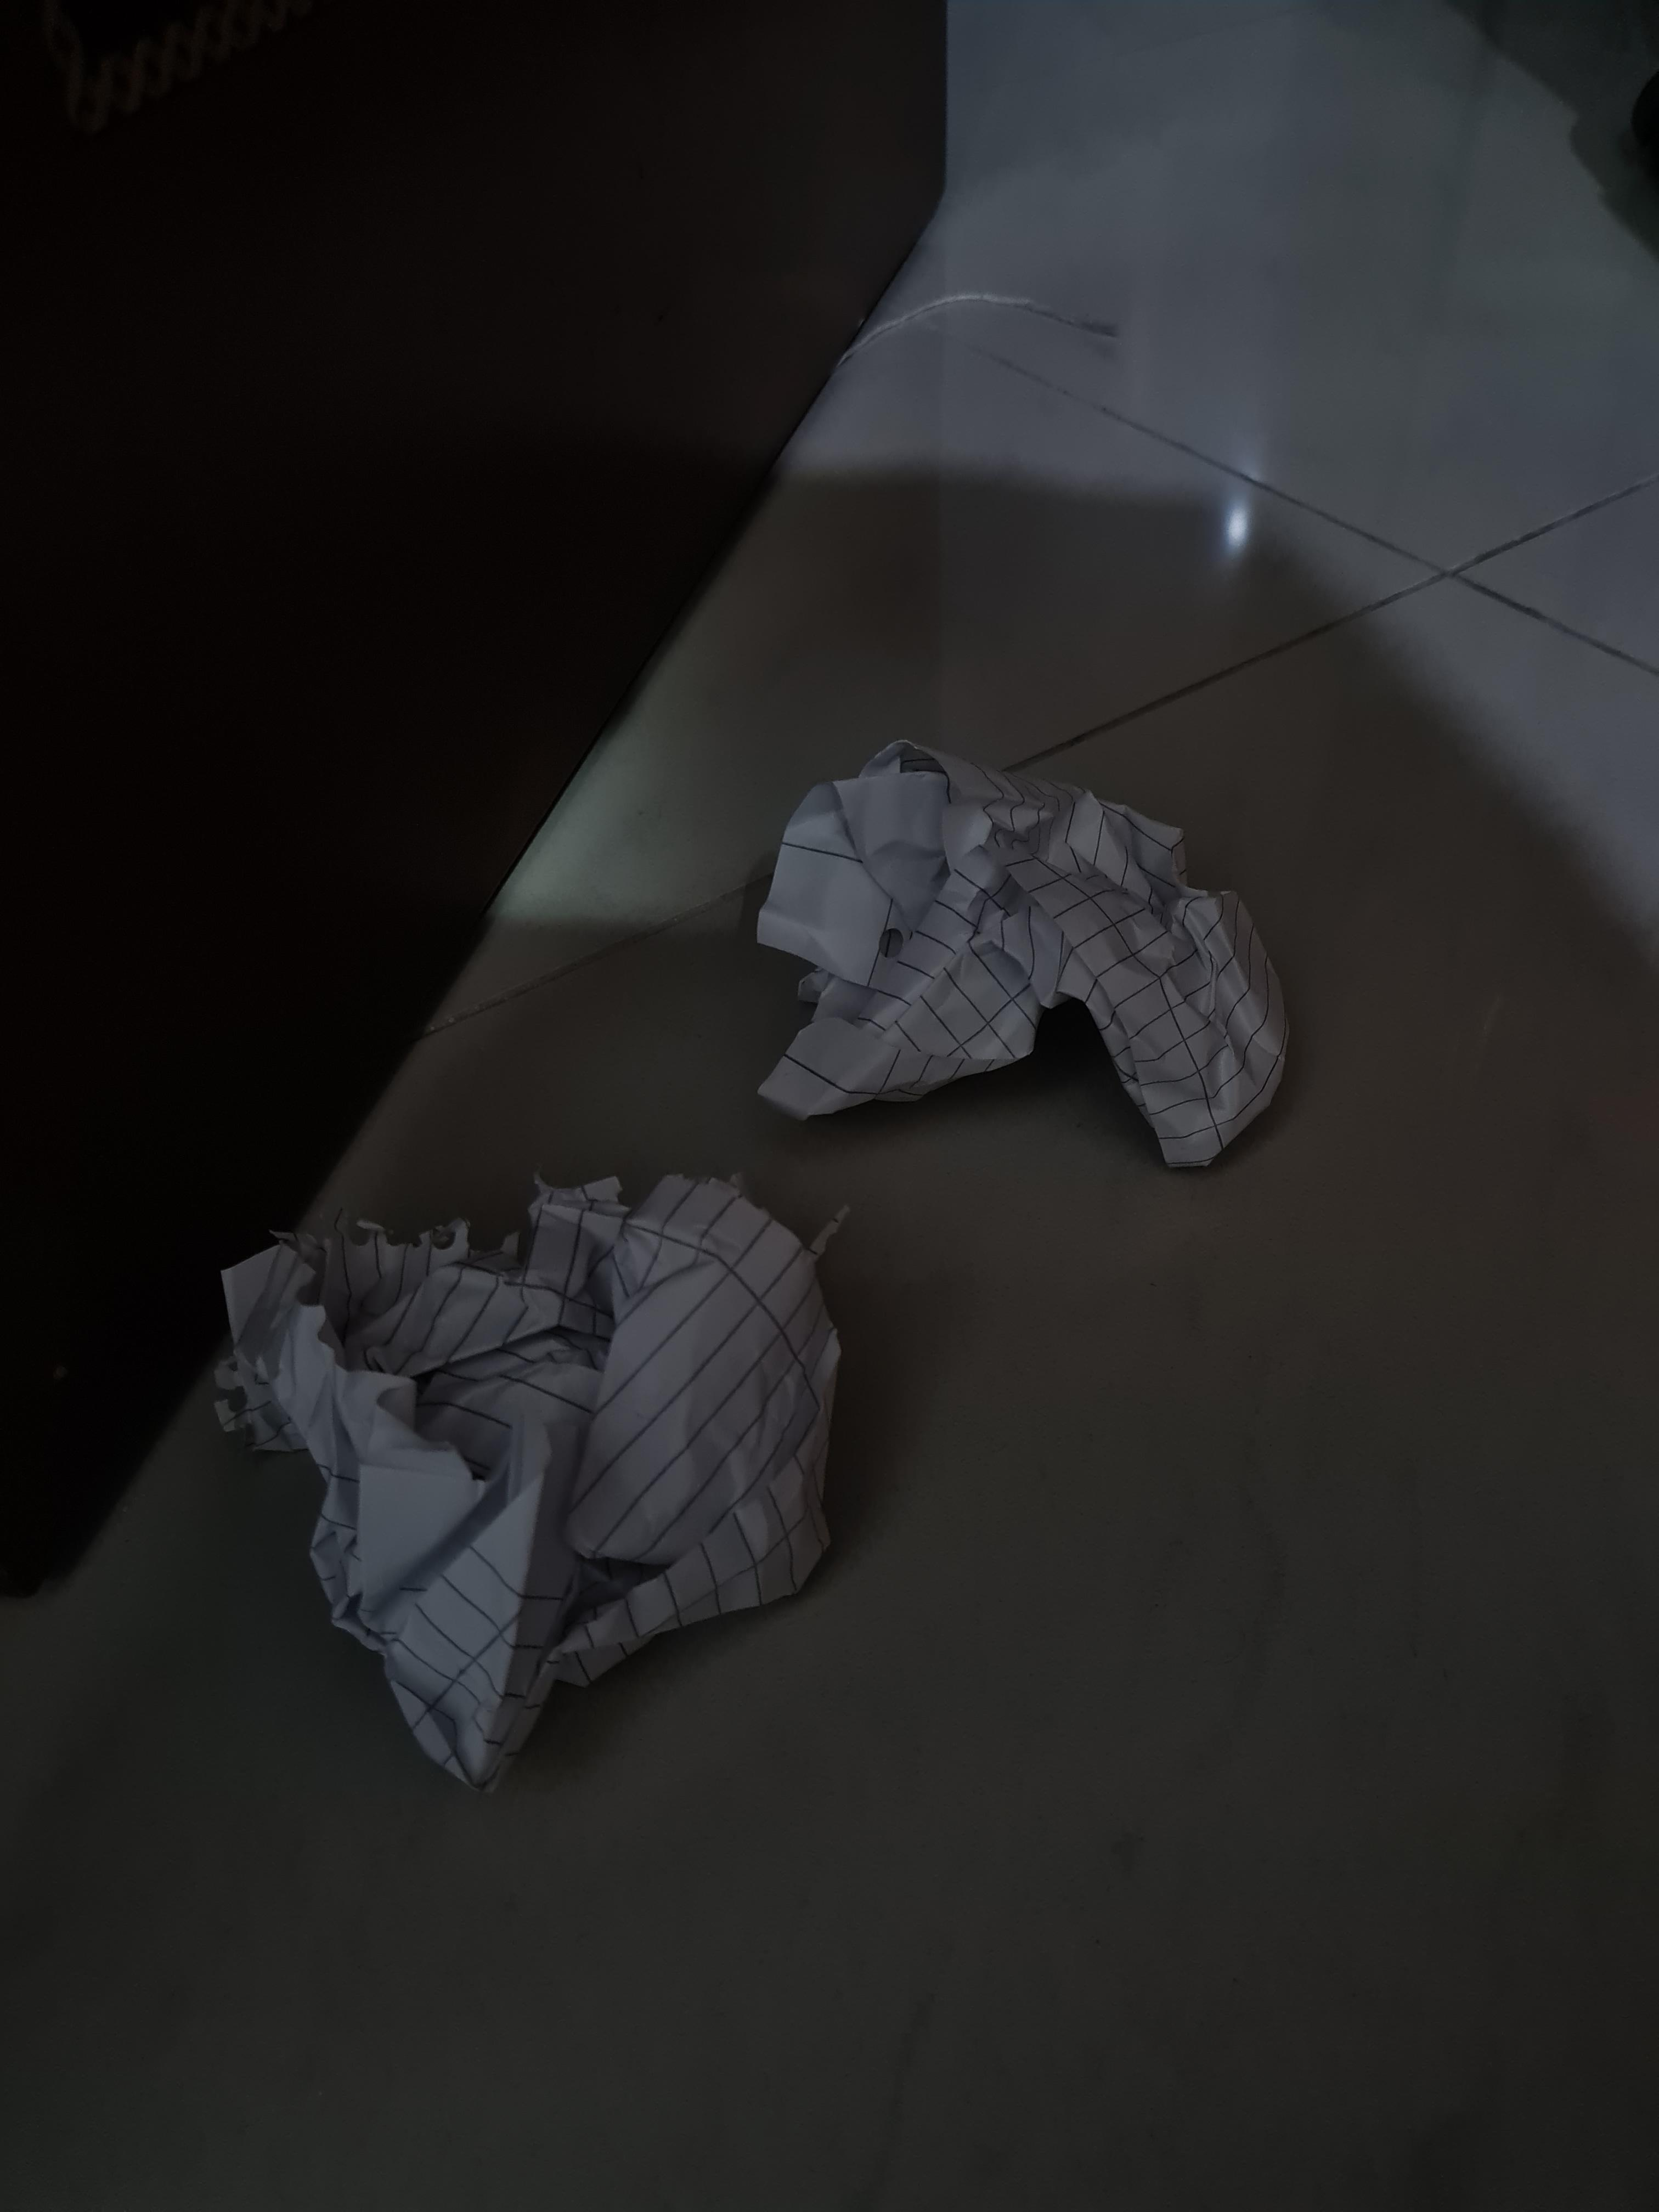Paper: (210, 1164, 836, 1779), (759, 720, 1295, 1137)
